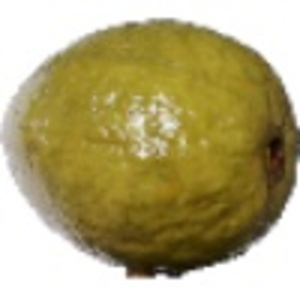goiaba: (2, 13, 294, 275)
